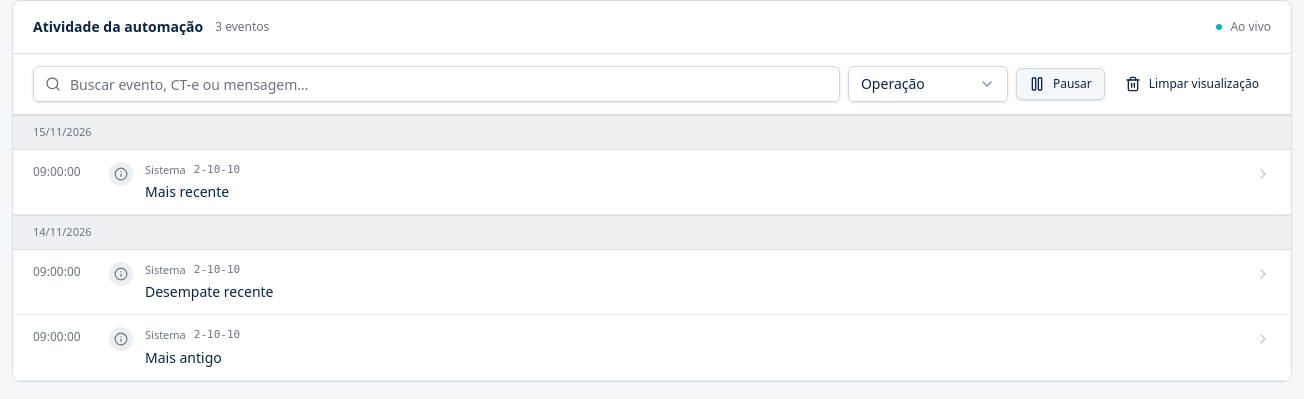
Test: ordena por horário decrescente e desempata pelo ID sem alterar os dados da consulta
Expected: the text "Mais recente" is shown, [145,182,229,201]
Click the button "Limpar visualização" at (1192, 84), box [1113,68,1271,100]
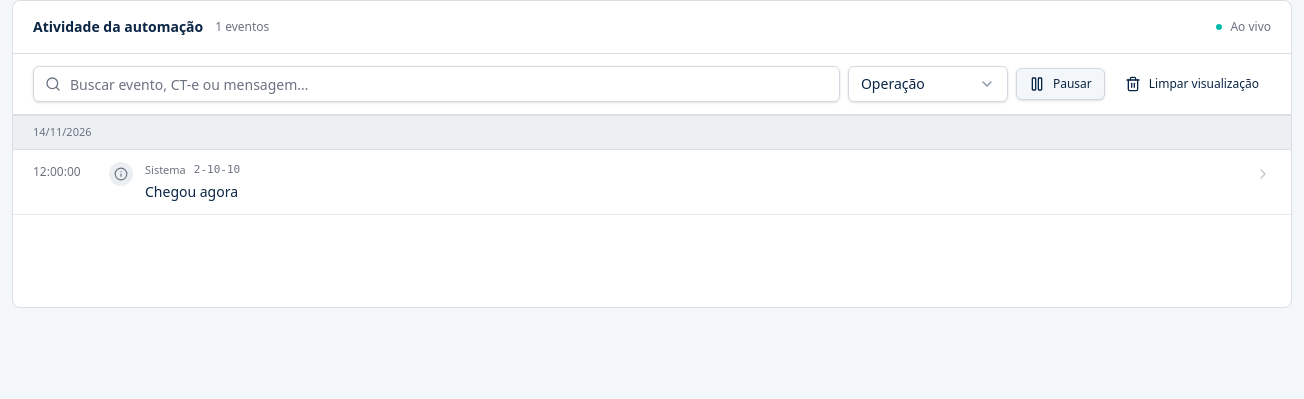
Now the button "Mais antigo" is gone
Now the button "Mais recente" is gone
Now the text "Chegou agora" is shown, box [145,182,238,201]
